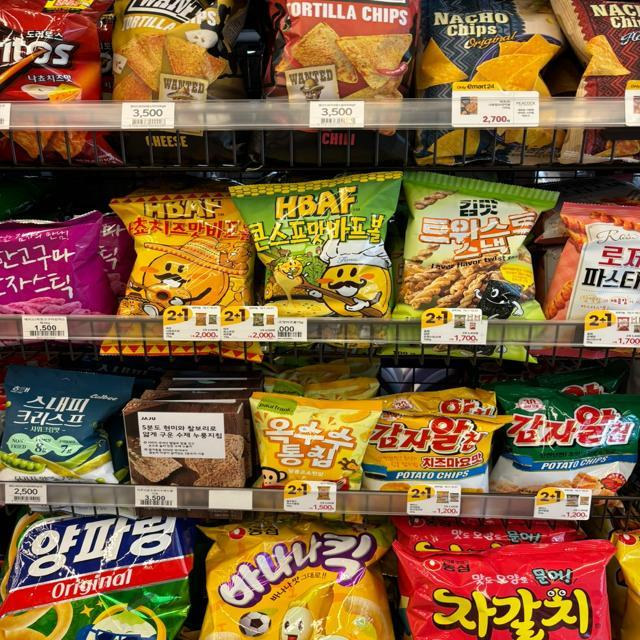product: (411, 173, 556, 345), (199, 516, 394, 640), (17, 506, 181, 640), (113, 186, 247, 346), (257, 177, 398, 322), (508, 395, 640, 501), (7, 371, 121, 487), (374, 407, 500, 496), (2, 220, 107, 322), (252, 400, 377, 485), (122, 408, 245, 487)
